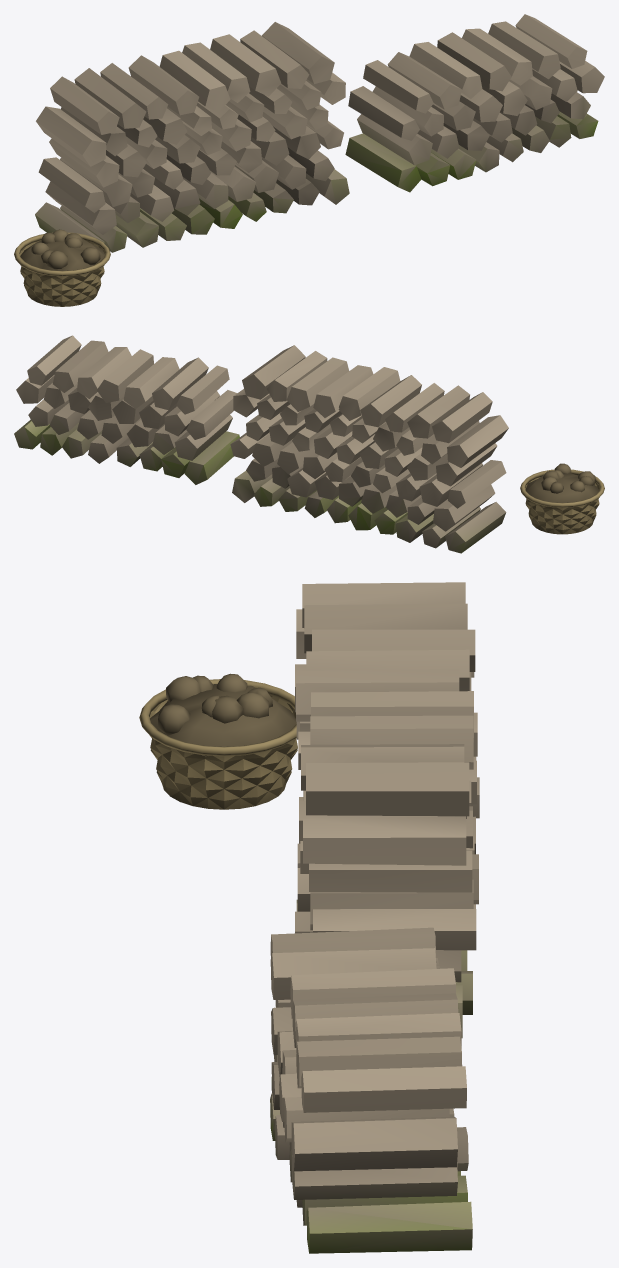
The model's file is woodpile.glb.
3 renders of one model, top to bottom at view 1: azimuth 30°, elevation 25°; view 2: azimuth 150°, elevation 25°; view 3: azimuth 270°, elevation 25°, orthographic. The views are drawn at different scales.
Parts seen in each view (by area): view 1: woodpile; view 2: woodpile; view 3: woodpile.
Part boxes in pixels (x1,y1,x2,y2): woodpile: [14, 14, 604, 306]; woodpile: [14, 335, 604, 553]; woodpile: [139, 582, 479, 1253].
Size of what is drawn, in the model's own units: 3.37 by 0.8074 by 0.9382.
